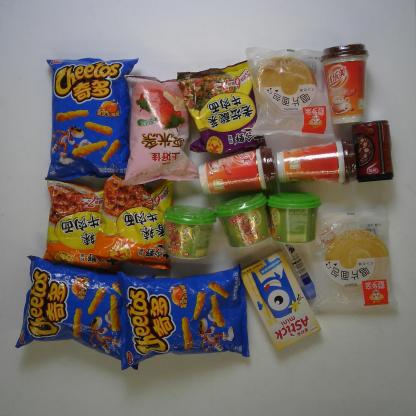Canned Food: (353, 119, 396, 188)
Dessert: (308, 204, 400, 318), (238, 247, 322, 352), (246, 44, 335, 140)
Instant Drink: (198, 144, 276, 196), (323, 41, 368, 128), (274, 139, 356, 185), (214, 189, 271, 250), (165, 203, 216, 263), (269, 189, 318, 246)
Instant Noodles: (175, 60, 270, 154), (44, 177, 120, 273), (104, 169, 174, 271)
Puffed Food: (13, 250, 145, 371), (117, 264, 256, 374), (46, 58, 139, 180), (126, 71, 199, 183)
Stationery: (278, 240, 318, 304)
